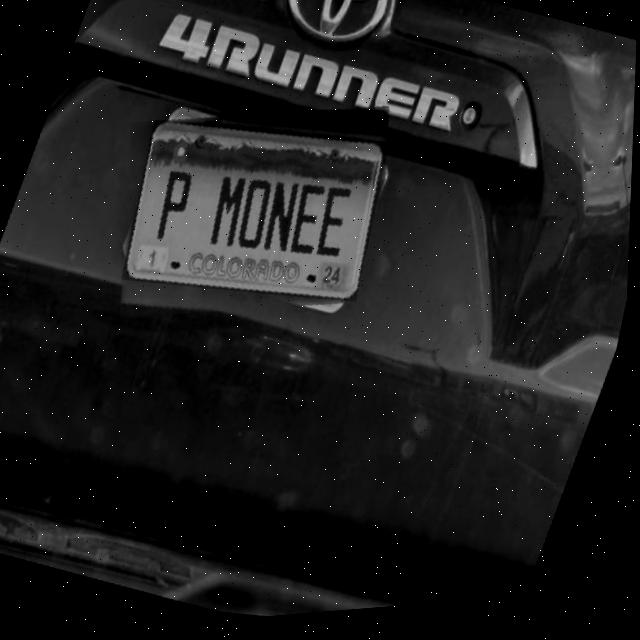LicensePlate: (124, 123, 388, 308)
